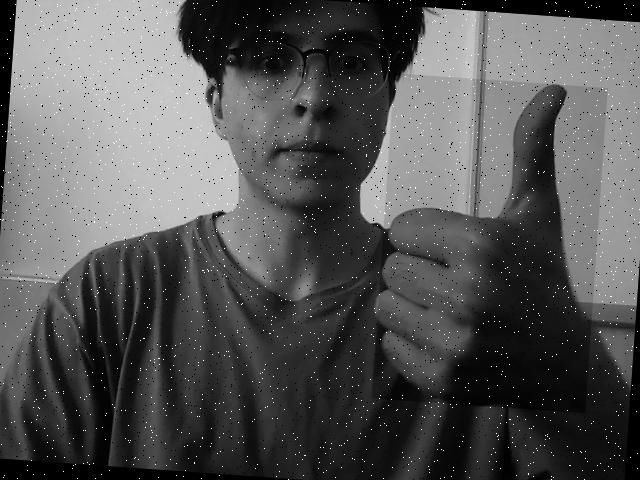good: (370, 73, 608, 413)
